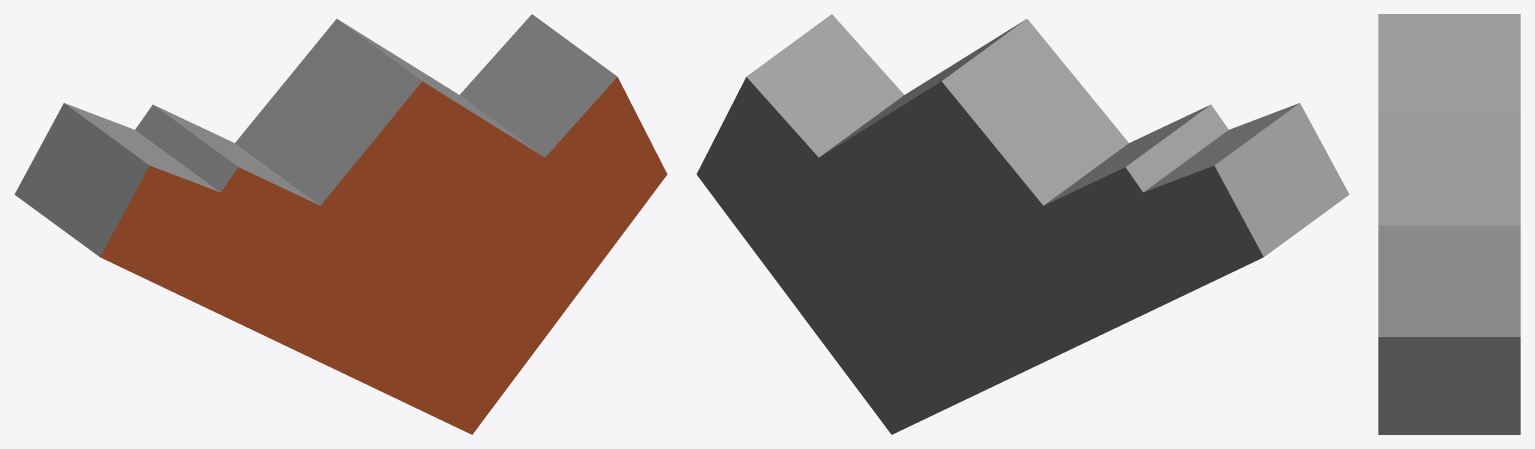
The model's file is construction_0922_assumed_A_Casa_h6m.obj.
The picture shows the model from 3 angles, left to right: view 1: azimuth 30°, elevation 25°; view 2: azimuth 150°, elevation 25°; view 3: azimuth 270°, elevation 25°; orthographic projection. The views are drawn at different scales.
Visible parts, largest first — view 1: construction_0922_assumed_A_Casa; view 2: construction_0922_assumed_A_Casa; view 3: construction_0922_assumed_A_Casa.
Boxes of the visible parts, left/top/right/bottom form: construction_0922_assumed_A_Casa: left=14, top=14, right=667, bottom=434; construction_0922_assumed_A_Casa: left=696, top=14, right=1349, bottom=434; construction_0922_assumed_A_Casa: left=1378, top=14, right=1520, bottom=434.
Size of the model in its own units: 22.95 by 14.14 by 6.
